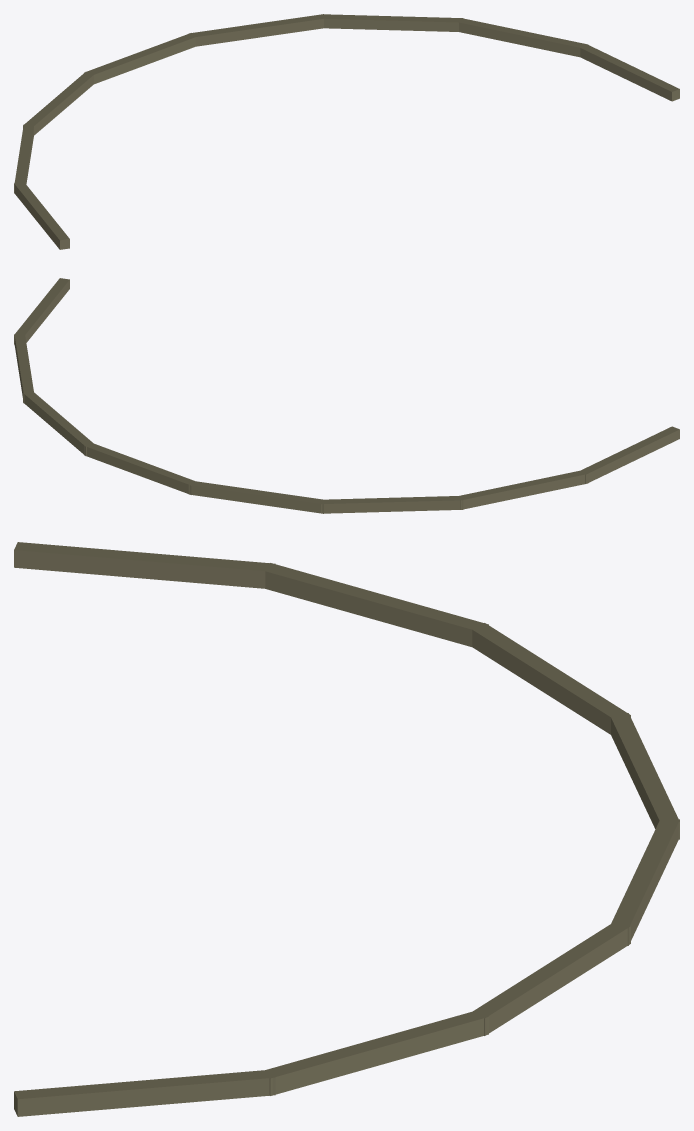
File: SM_Manguera_v1_Curva_LOD0.fbx
The picture shows the model from 3 angles, top to bottom: view 1: azimuth 30°, elevation 25°; view 2: azimuth 150°, elevation 25°; view 3: azimuth 270°, elevation 25°; orthographic projection. The views are drawn at different scales.
Visible parts, largest first — view 1: SM_farp_betera_v6_LOD0; view 2: SM_farp_betera_v6_LOD0; view 3: SM_farp_betera_v6_LOD0.
Part boxes in pixels (box(x1,y1,x2,y2)): SM_farp_betera_v6_LOD0: box(14, 14, 679, 249); SM_farp_betera_v6_LOD0: box(14, 278, 679, 513); SM_farp_betera_v6_LOD0: box(14, 542, 679, 1116).
Size of the model in its own units: 8.13 by 0.12 by 4.11.
